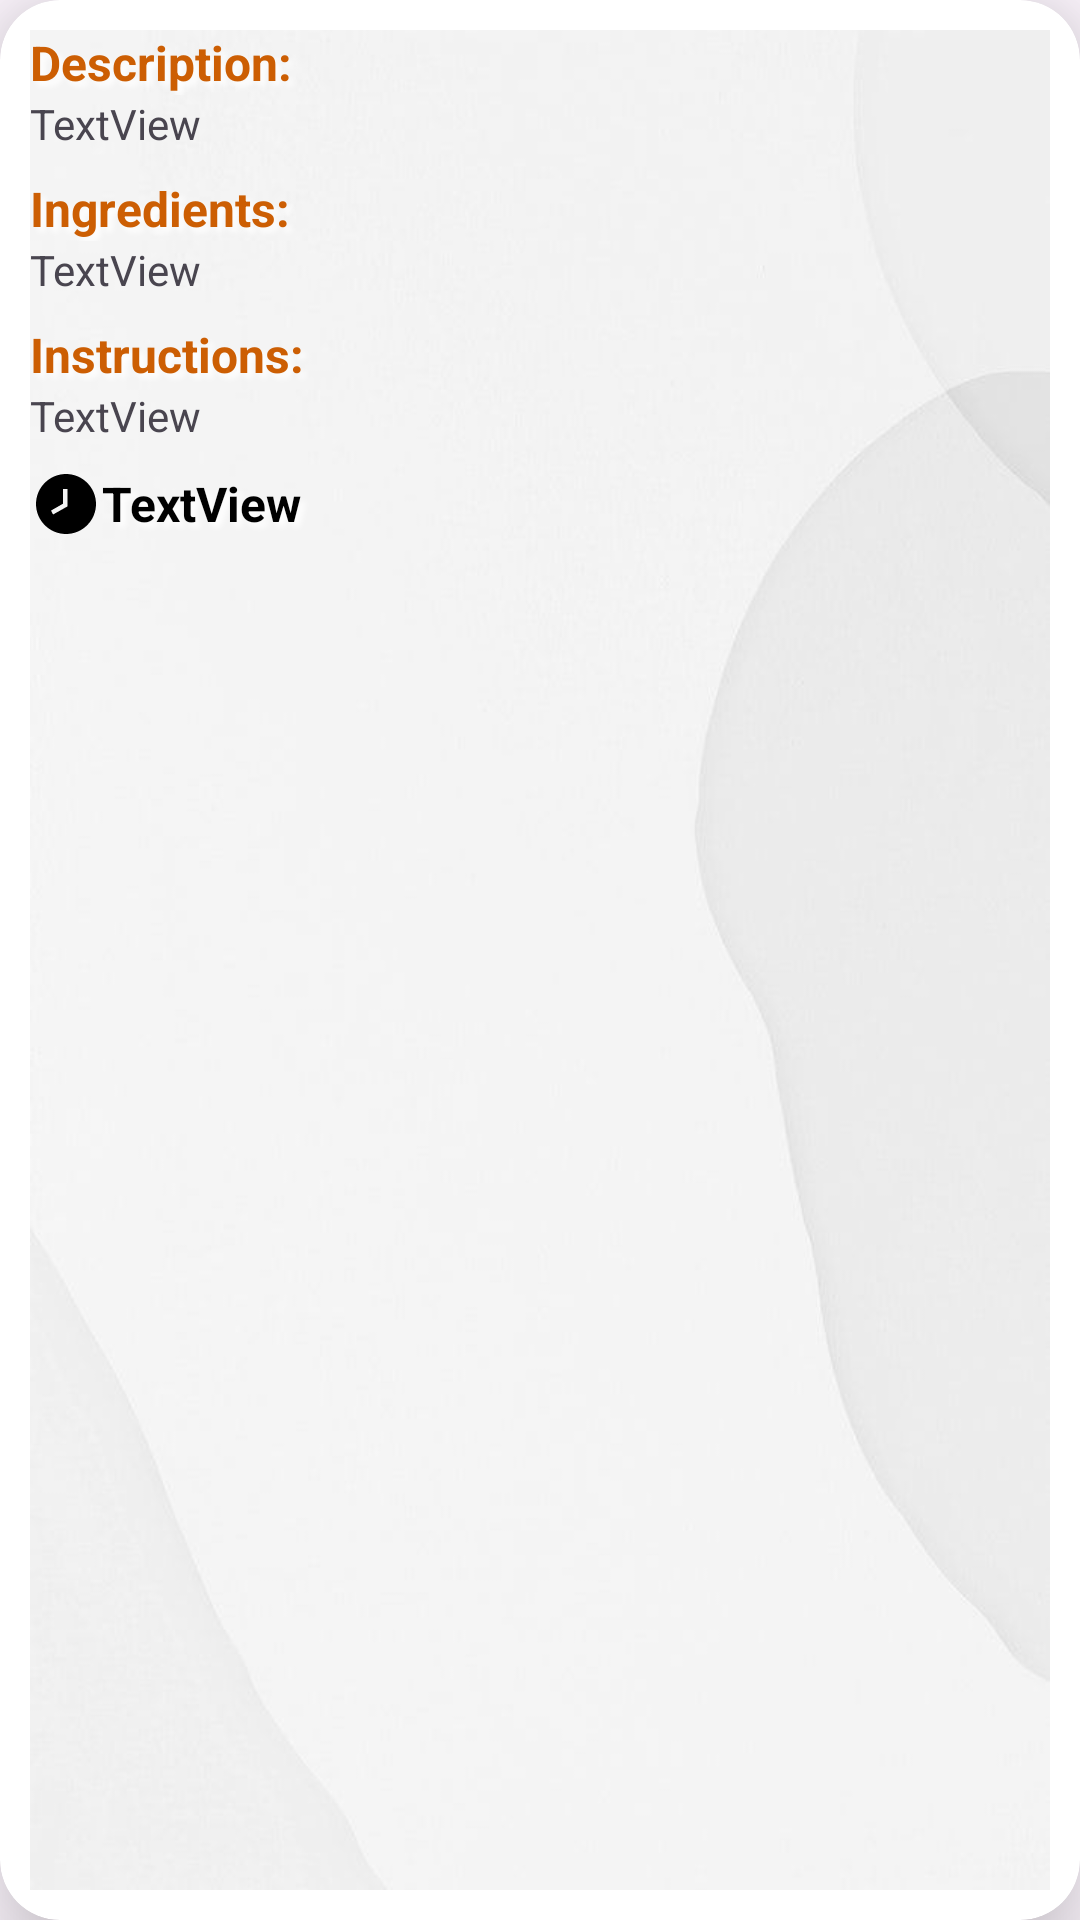

Where icons sit on this 1080 x 1920 app screen, as (x1, y1, x2, y2):
clock: (36, 474, 96, 534)
